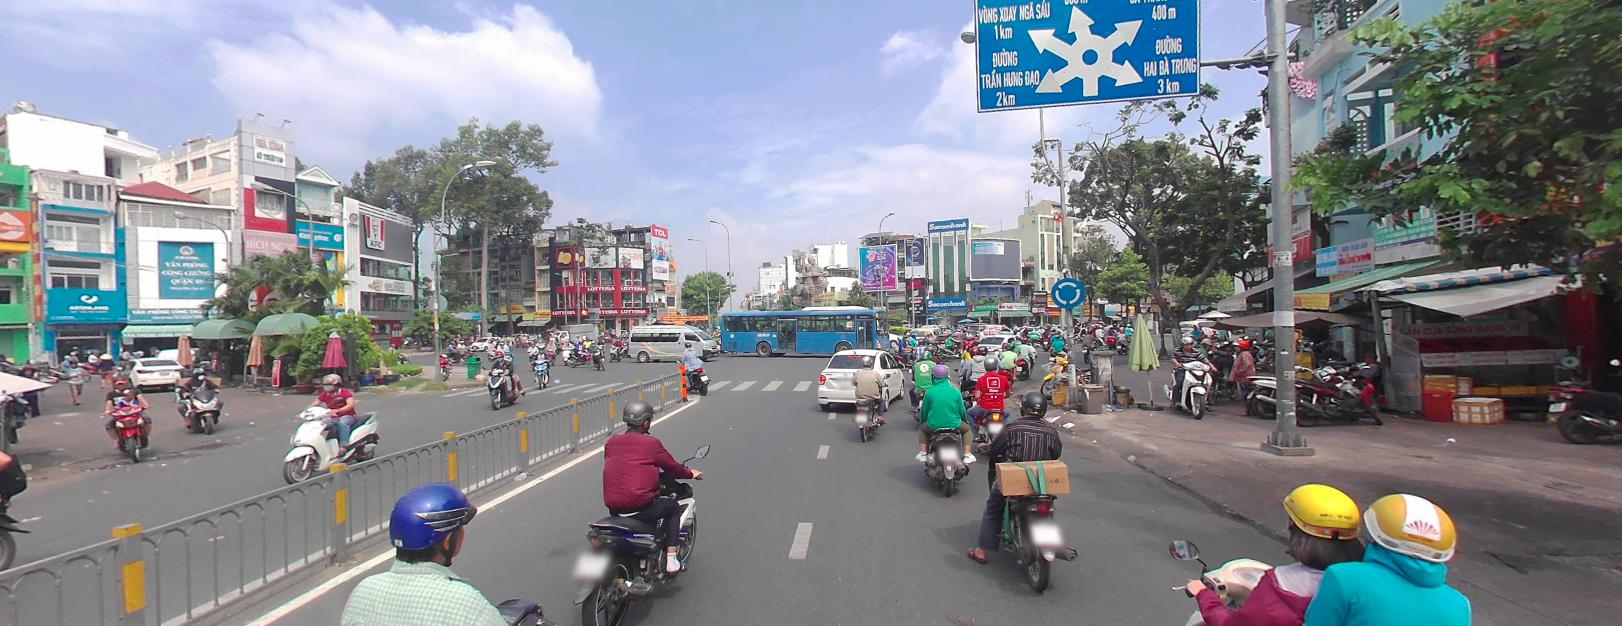Hieu lenh: (1049, 272, 1085, 307)
